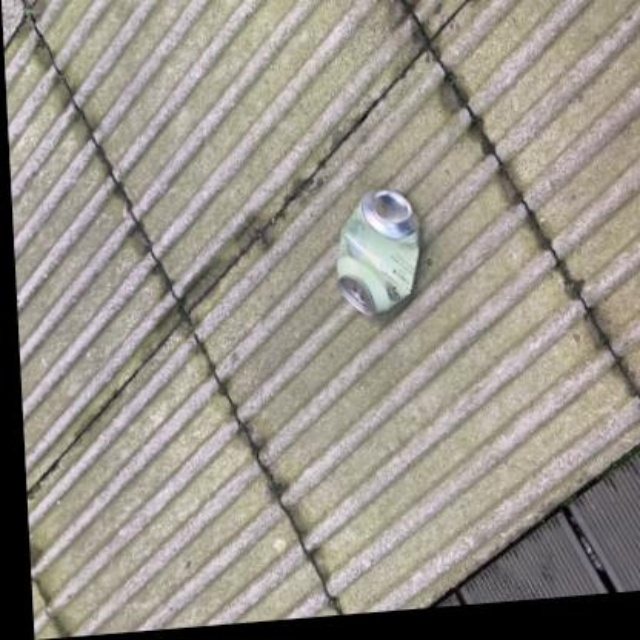trash: (337, 189, 417, 315)
